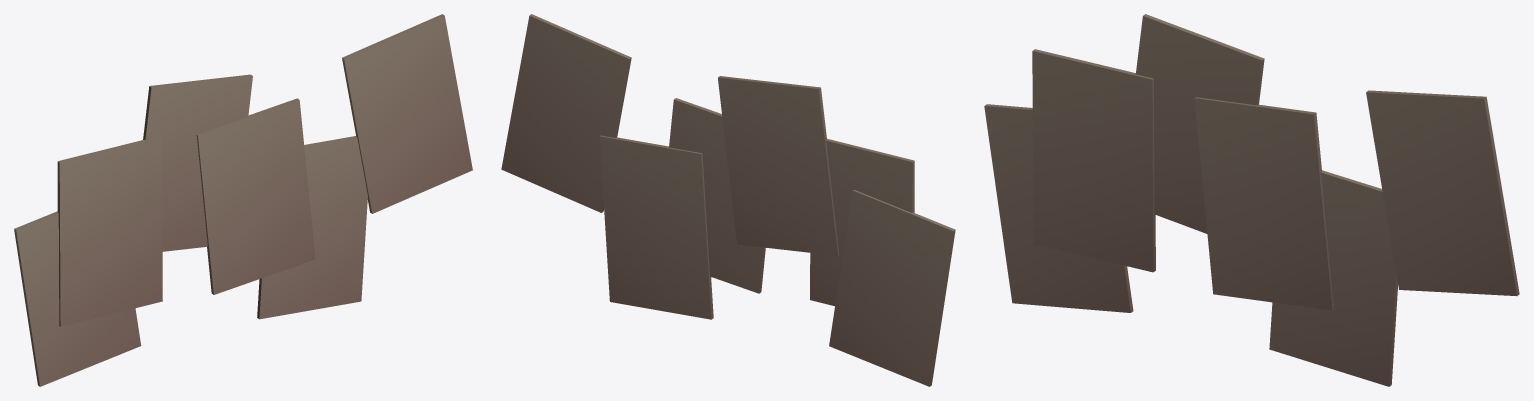
Rendered from many-papers.fbx.
3 renders of one model, left to right at view 1: azimuth 30°, elevation 25°; view 2: azimuth 150°, elevation 25°; view 3: azimuth 330°, elevation 25°, orthographic. The views are drawn at different scales.
Parts seen in each view (by area): view 1: many-papers; view 2: many-papers; view 3: many-papers.
Boxes of the visible parts, x1,y1,x2,y2 form: many-papers: (14, 14, 472, 386); many-papers: (501, 14, 955, 386); many-papers: (984, 14, 1519, 386).
Bounding box in the file's own units: 320 × 184 × 4.21.
